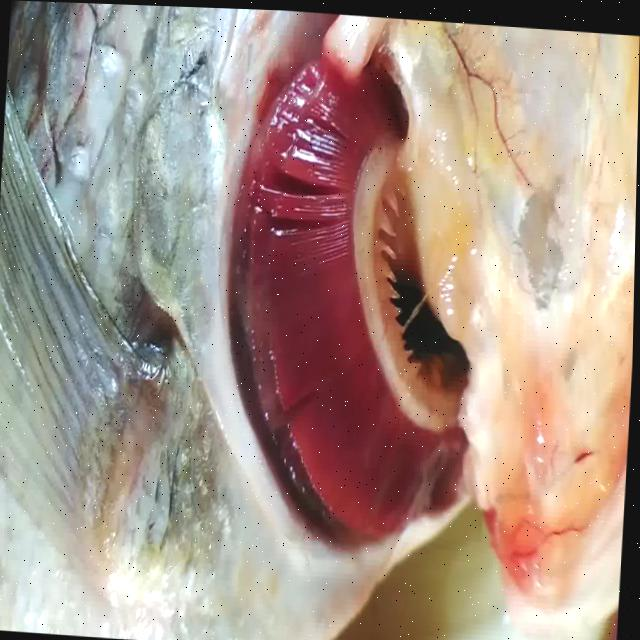Fresh: (175, 5, 505, 601)
